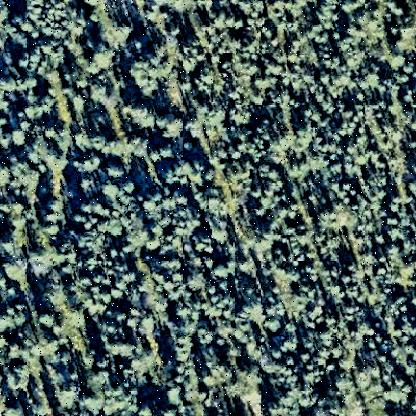tree-top: (383, 378, 415, 410), (197, 185, 230, 216), (131, 102, 161, 132), (89, 43, 119, 73), (155, 112, 187, 140), (107, 338, 139, 362), (3, 255, 31, 281), (54, 384, 80, 412), (228, 103, 256, 129), (75, 153, 105, 177), (265, 392, 295, 416), (88, 80, 116, 105), (239, 362, 265, 388), (5, 306, 31, 332), (40, 281, 65, 307), (43, 196, 67, 221), (186, 269, 210, 293), (194, 326, 217, 349), (369, 170, 393, 192), (210, 223, 234, 245), (135, 315, 161, 335), (23, 72, 43, 97), (9, 126, 31, 148), (80, 390, 102, 412), (155, 143, 179, 163), (163, 2, 203, 14), (67, 90, 88, 112), (211, 262, 233, 282), (226, 12, 248, 32), (162, 253, 184, 273), (1, 74, 21, 96), (44, 222, 65, 242), (106, 161, 128, 180), (164, 385, 184, 405), (333, 374, 353, 393), (77, 176, 97, 194), (102, 180, 122, 198), (23, 102, 41, 122), (280, 337, 301, 354), (6, 401, 29, 416), (265, 316, 283, 334), (110, 287, 128, 305), (339, 2, 363, 14), (95, 354, 113, 370), (200, 70, 218, 86), (388, 52, 404, 70), (1, 162, 12, 188), (130, 39, 149, 53), (372, 232, 388, 248), (250, 184, 264, 201), (12, 12, 26, 28), (20, 22, 36, 36), (151, 222, 165, 236), (301, 351, 315, 365), (183, 139, 195, 155), (273, 348, 286, 362), (342, 274, 354, 287)
